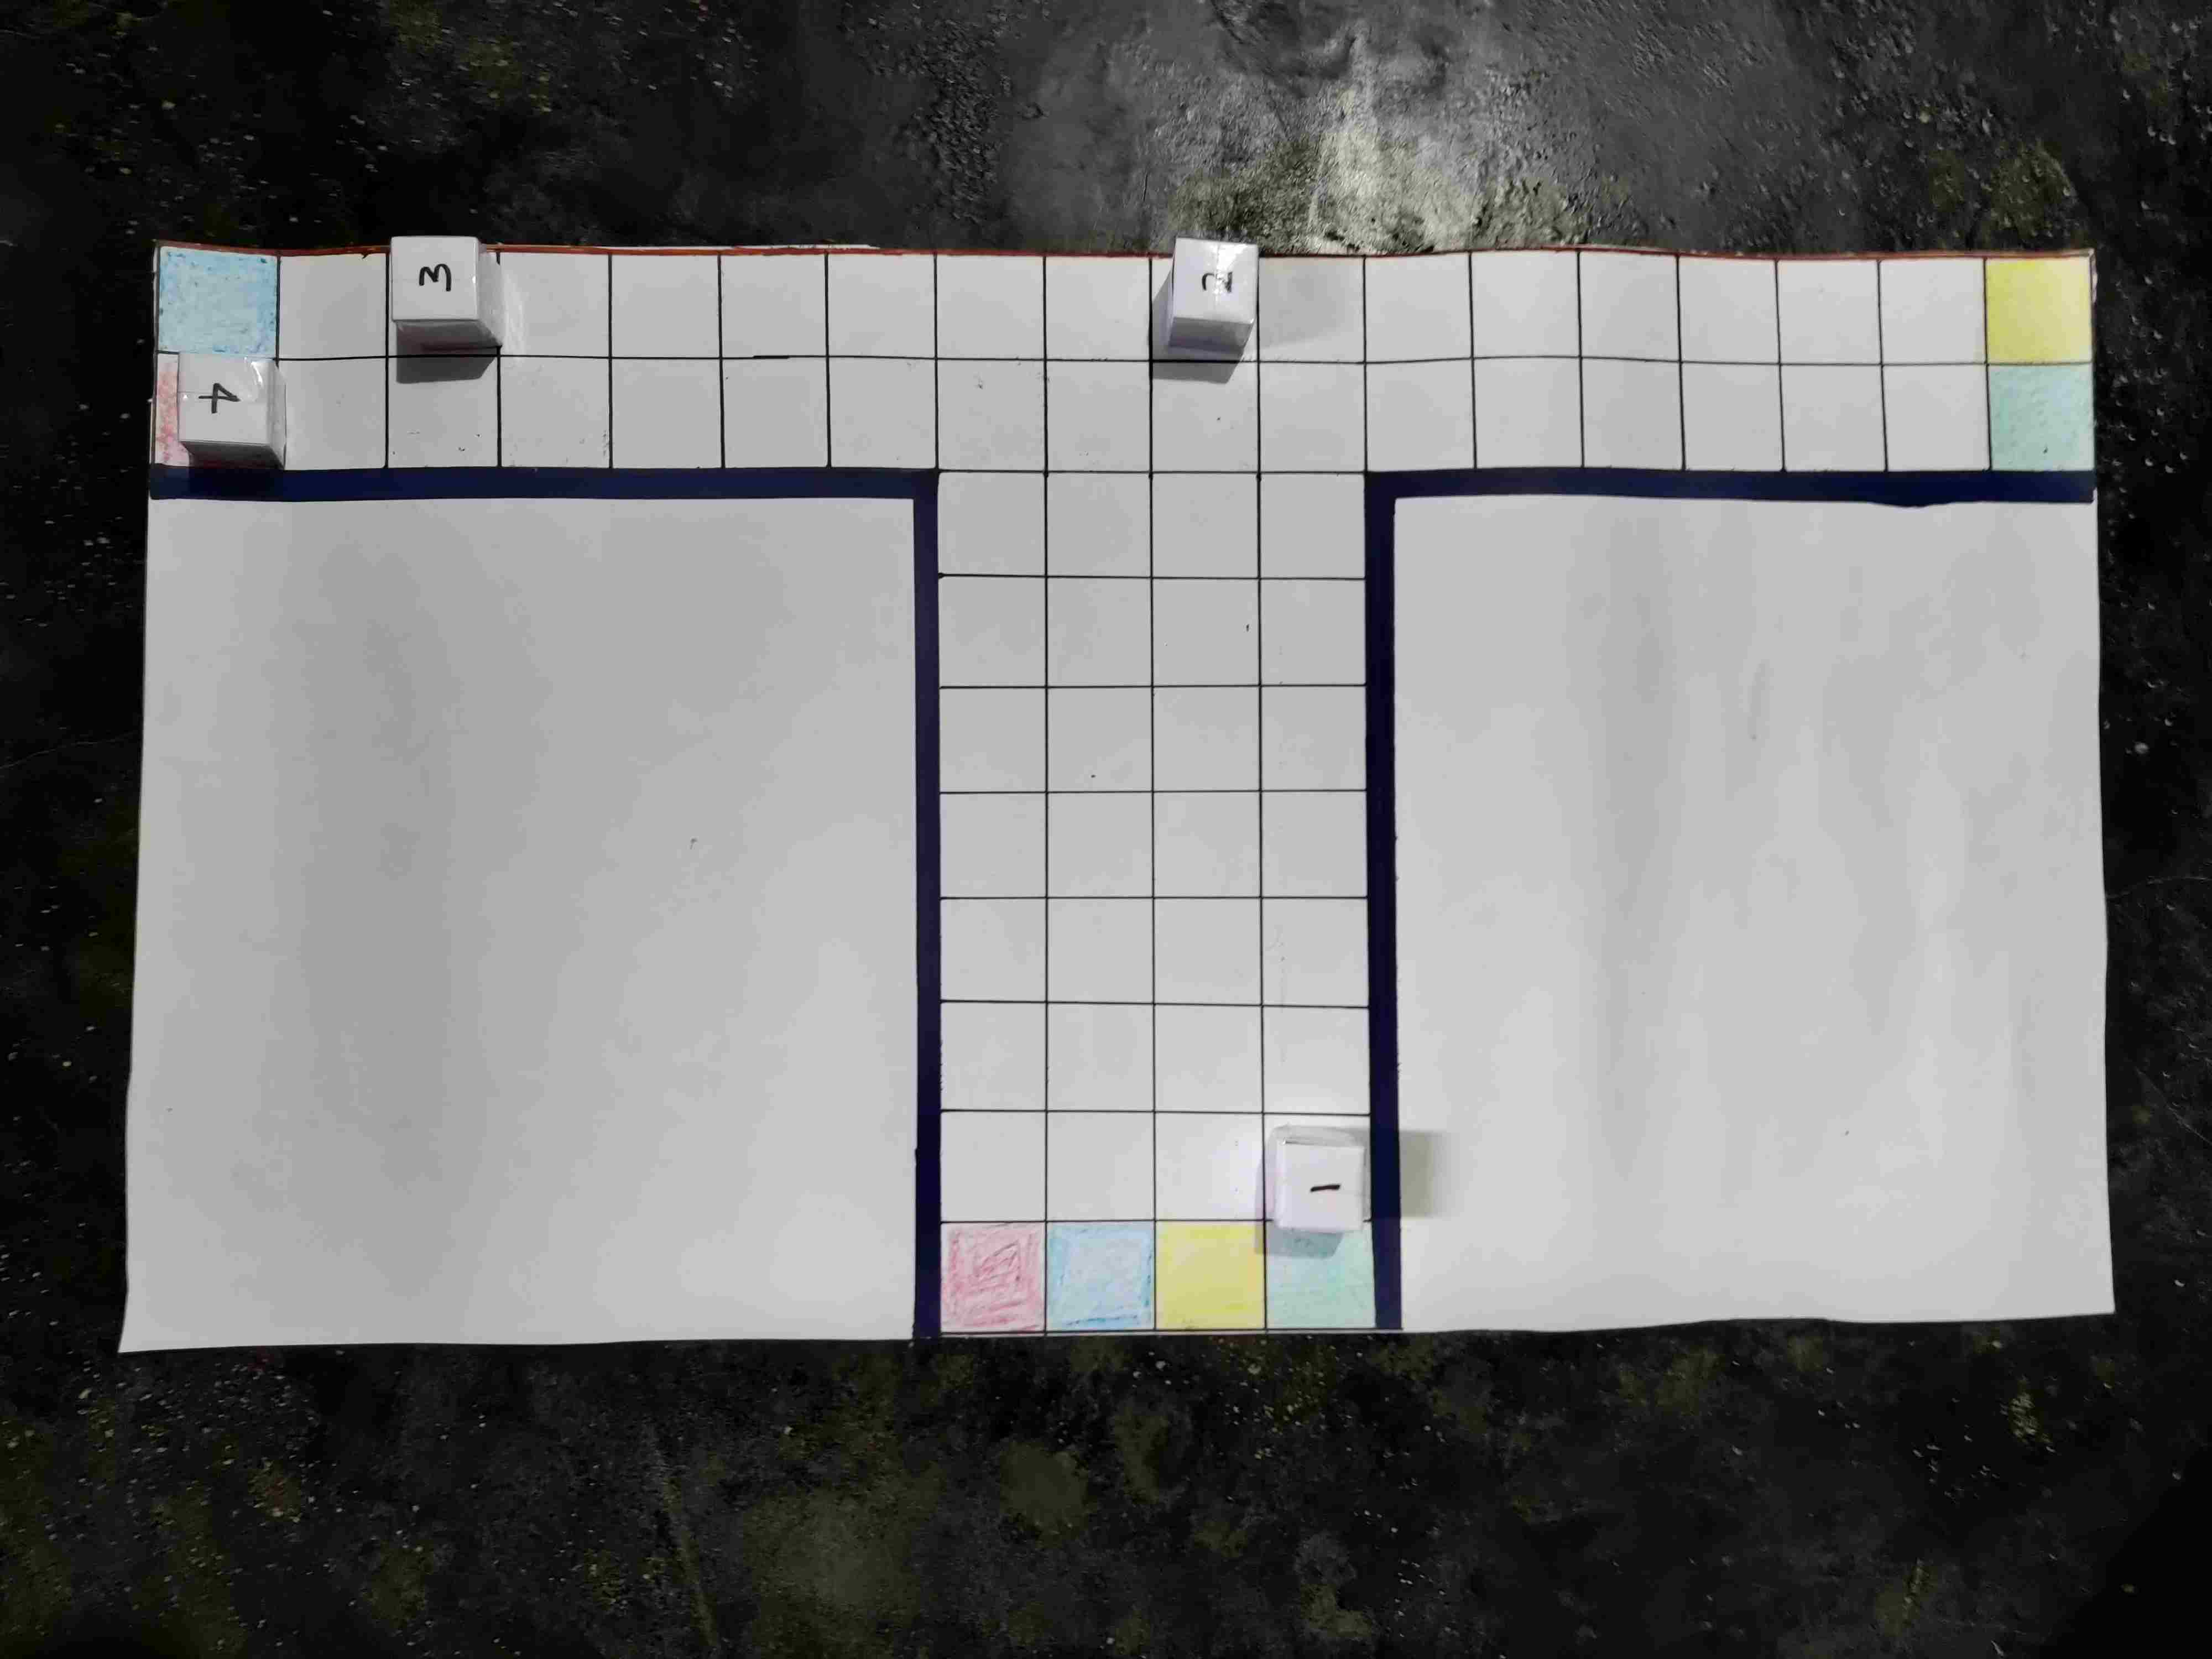arena: (145, 232, 2128, 1354)
bot: (538, 1112, 620, 1216), (1705, 1145, 1797, 1237), (1017, 343, 1104, 420), (1136, 903, 1217, 981)
